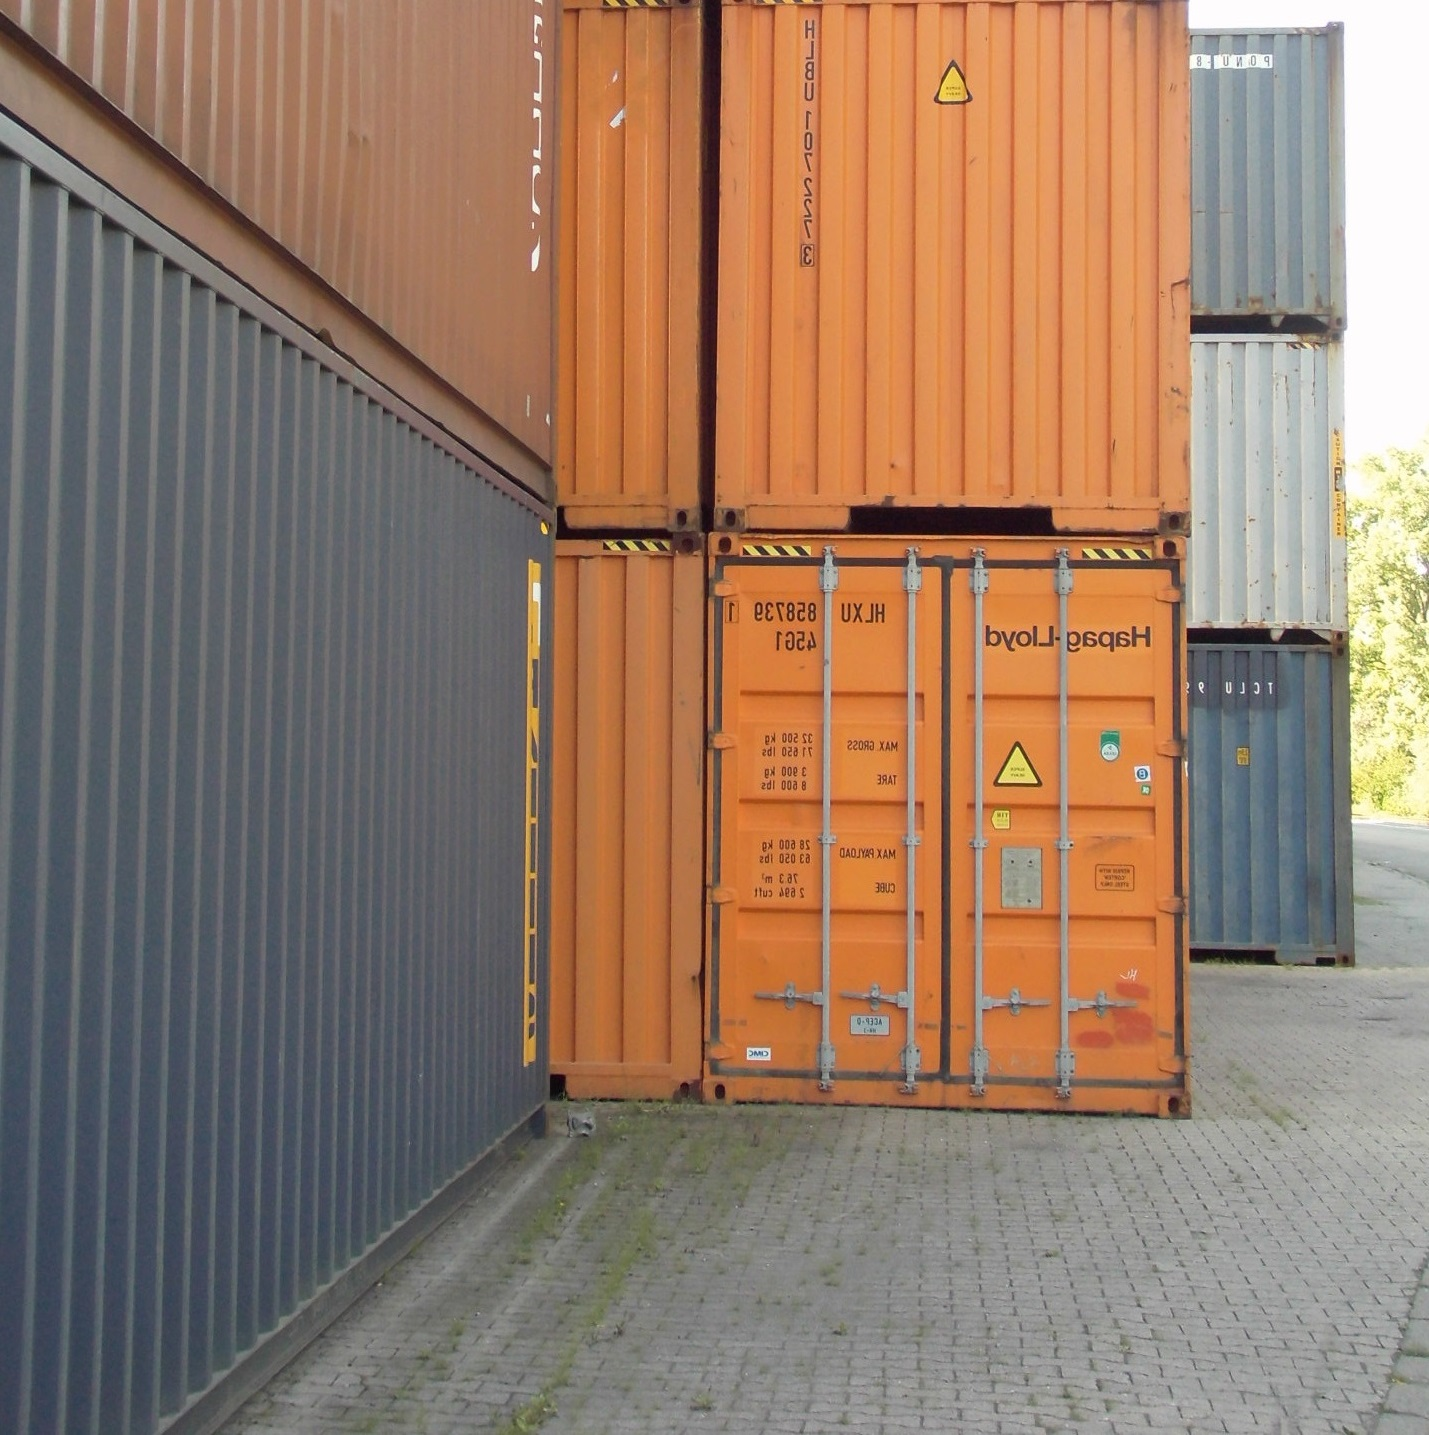container_door: (711, 521, 1190, 1125), (713, 1, 1199, 521), (1183, 644, 1350, 973), (1186, 22, 1343, 327), (1186, 334, 1343, 638)
